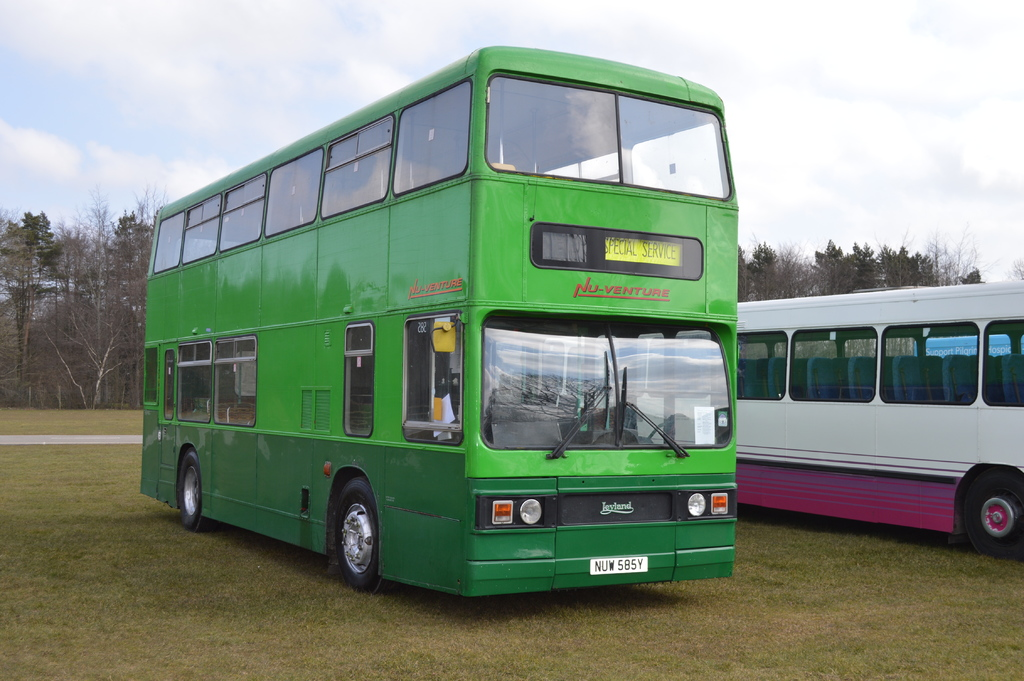Bus: (138, 40, 738, 591), (637, 276, 1023, 559)
